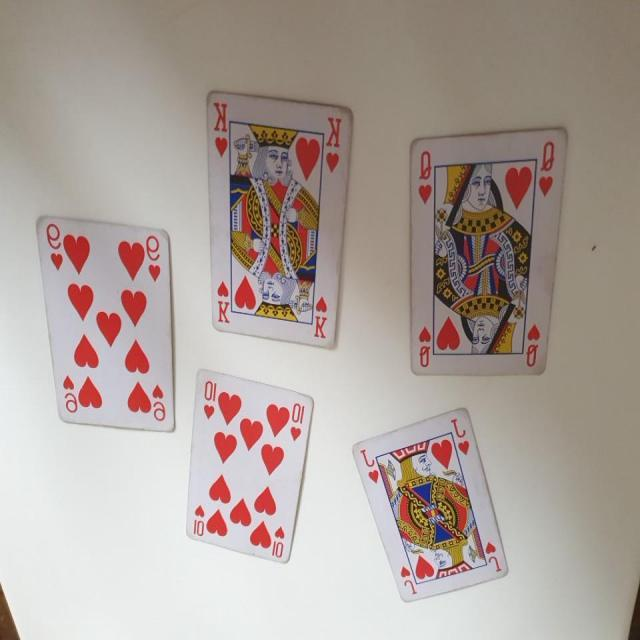10 of hearts: (175, 368, 318, 573)
9 of hearts: (30, 206, 179, 435)
jack of hearts: (344, 396, 508, 612)
king of hearts: (204, 89, 360, 355)
queen of hearts: (400, 118, 578, 395)
